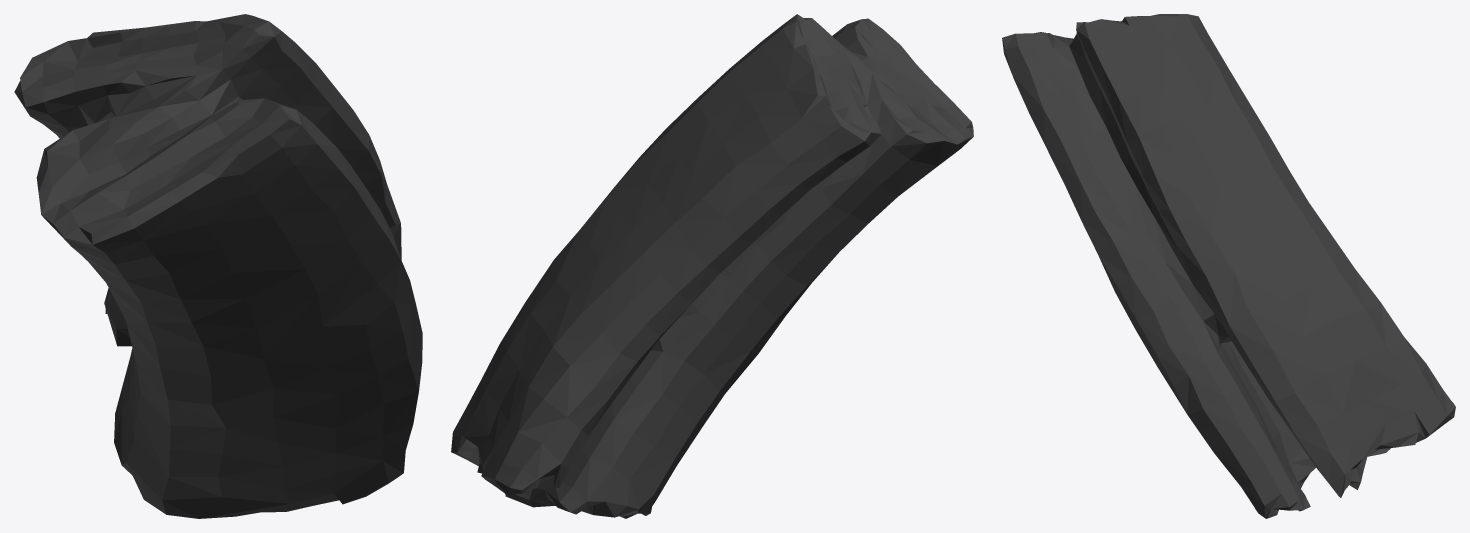
The model's file is Lower_M2_1.glb.
3 renders of one model, left to right at view 1: azimuth 30°, elevation 25°; view 2: azimuth 150°, elevation 25°; view 3: azimuth 270°, elevation 25°, orthographic. The views are drawn at different scales.
Parts seen in each view (by area): view 1: Lower_M2_1; view 2: Lower_M2_1; view 3: Lower_M2_1.
Boxes of the visible parts, <box> form: Lower_M2_1: <box>14,14,422,518</box>; Lower_M2_1: <box>451,14,973,518</box>; Lower_M2_1: <box>1002,14,1455,518</box>.
Bounding box in the file's own units: 0.6382 × 0.7287 × 0.7053.
Materials: 1 (1 with a texture image).
